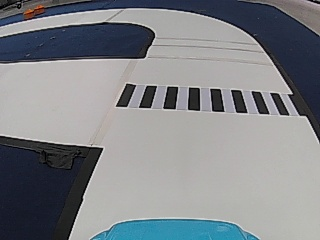CrossWalk: (116, 83, 294, 114)
